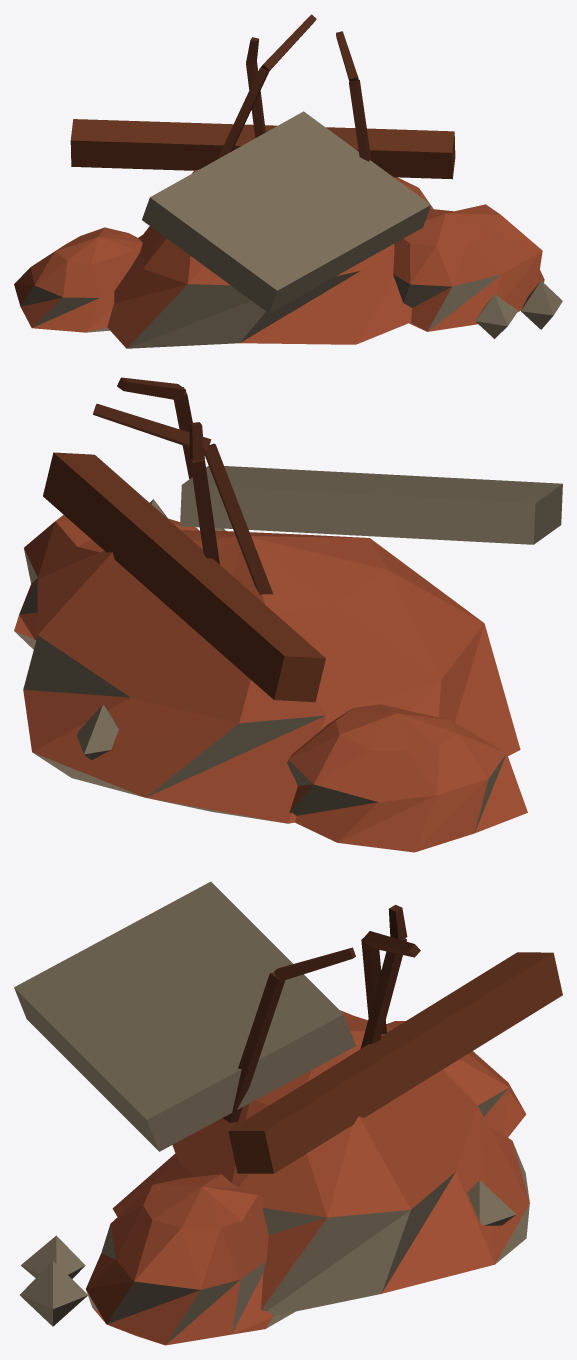
File: brick_rubble.glb
The picture shows the model from 3 angles, top to bottom: view 1: azimuth 30°, elevation 25°; view 2: azimuth 150°, elevation 25°; view 3: azimuth 270°, elevation 25°; orthographic projection. The views are drawn at different scales.
Visible parts, largest first — view 1: brick_rubble2; view 2: brick_rubble2; view 3: brick_rubble2.
Boxes of the visible parts, <box> form: brick_rubble2: <box>14,14,562,348</box>; brick_rubble2: <box>14,377,562,852</box>; brick_rubble2: <box>14,881,562,1345</box>.
Size of the model in its own units: 1.18 by 0.6272 by 0.9652.
